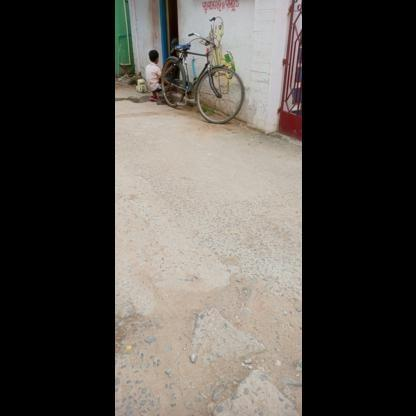Bicycle: (155, 13, 249, 131)
